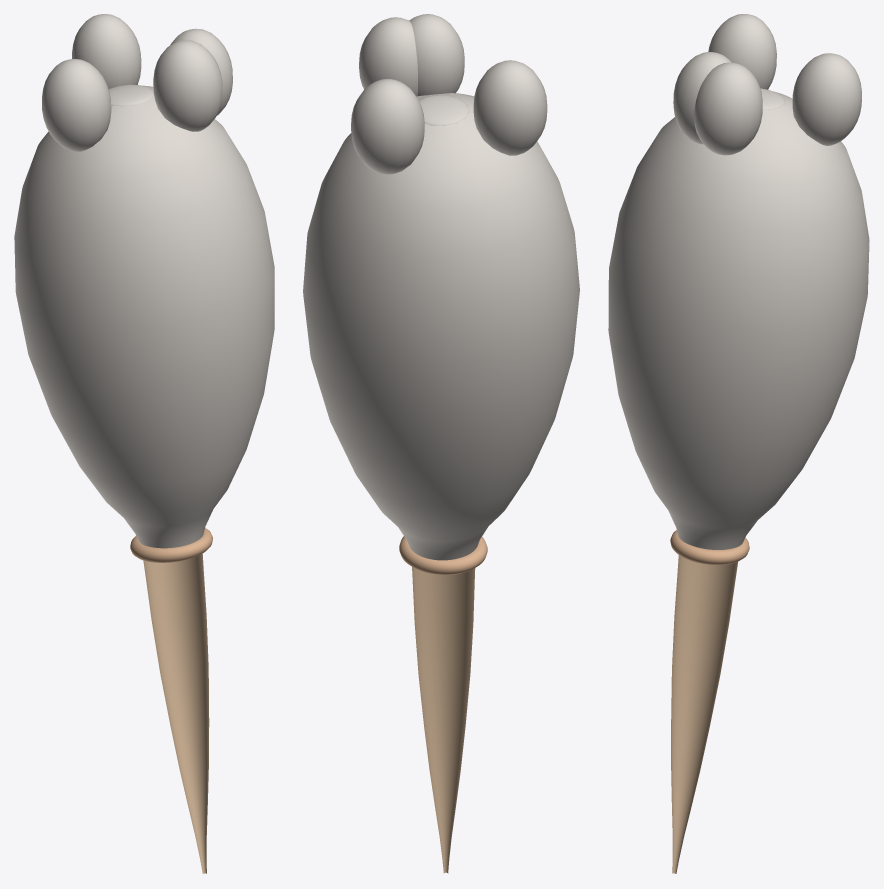
Rendered from realistic_tooth_jaw.glb.
3 renders of one model, left to right at view 1: azimuth 30°, elevation 25°; view 2: azimuth 150°, elevation 25°; view 3: azimuth 270°, elevation 25°, orthographic. The views are drawn at different scales.
Parts seen in each view (by area): view 1: Crown, Cusp (×4), Root, CEJRing, CentralGroove; view 2: Crown, Cusp (×4), Root, CEJRing, CentralGroove; view 3: Crown, Cusp (×4), Root, CEJRing.
Boxes of the visible parts, x1,y1,x2,y2 form: Crown: (14, 85, 274, 548); Cusp (×4): (42, 14, 232, 151); Root: (143, 553, 209, 873); CEJRing: (130, 528, 212, 562); CentralGroove: (109, 84, 153, 106); Crown: (303, 93, 579, 560); Cusp (×4): (351, 14, 547, 174); Root: (412, 567, 475, 873); CEJRing: (399, 536, 487, 574); CentralGroove: (419, 95, 469, 125); Crown: (608, 91, 869, 549); Cusp (×4): (673, 14, 861, 155); Root: (671, 555, 737, 873); CEJRing: (670, 530, 749, 564).
Size of the model in its own units: 0.0639 by 0.2223 by 0.0642.
